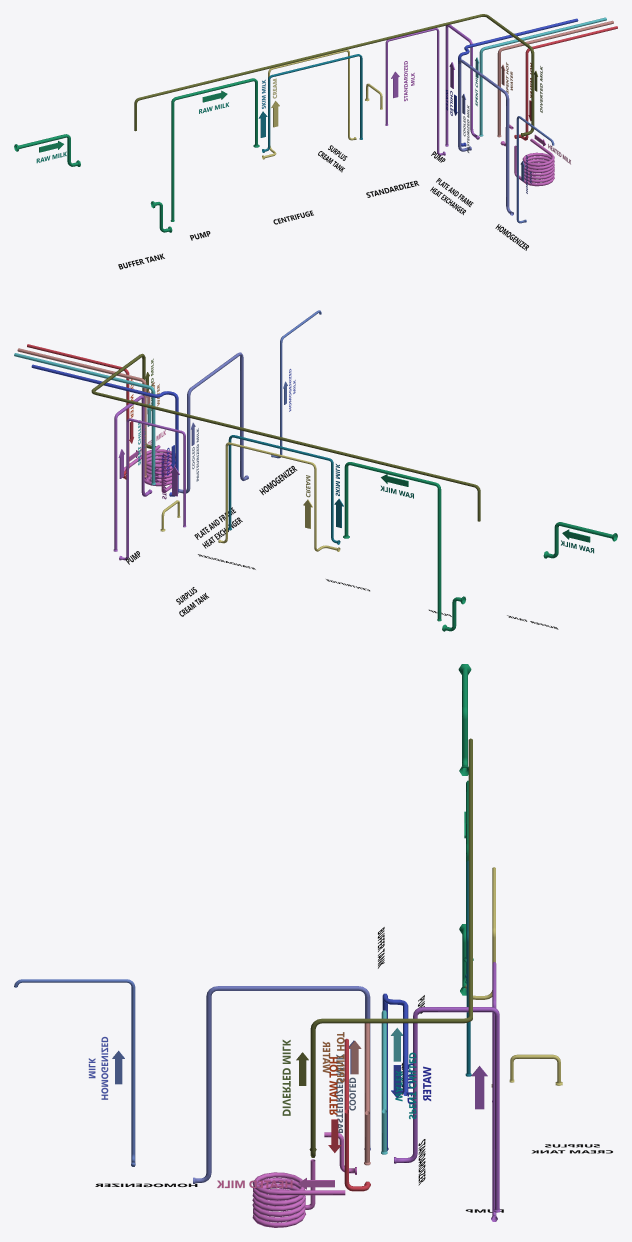
File: milk line color pipes v007.glb
The picture shows the model from 3 angles, top to bottom: view 1: azimuth 30°, elevation 25°; view 2: azimuth 150°, elevation 25°; view 3: azimuth 270°, elevation 25°; orthographic projection. The views are drawn at different scales.
Visible parts, largest first — view 1: Circle.020, Circle.003, Circle.015, Circle.005, Circle.011, Circle.014, Circle.009, Circle.006, Circle.012, Circle.013, Circle.016, Circle.018 (+3 smaller); view 2: Circle.020, Circle.005, Circle.015, Circle.011, Circle.014, Circle.006, Circle.007, Circle.003, Circle.009, Circle.016, Circle.012, Circle.013 (+2 smaller); view 3: Circle.020, Circle.003, Circle.015, Circle.011, Circle.018, Circle.013, Circle.009, Circle.016, Circle.012, Circle.014.
Part boxes in pixels (x1,y1,x2,y2): Circle.020: [134, 14, 534, 136]; Circle.003: [514, 138, 554, 186]; Circle.015: [458, 59, 513, 215]; Circle.005: [170, 78, 259, 221]; Circle.011: [445, 24, 479, 146]; Circle.014: [479, 17, 606, 136]; Circle.009: [385, 28, 445, 155]; Circle.006: [262, 54, 362, 152]; Circle.012: [497, 20, 613, 137]; Circle.013: [514, 26, 617, 140]; Circle.016: [458, 18, 578, 146]; Circle.018: [516, 116, 554, 223]; Circle.020: [91, 353, 480, 521]; Circle.005: [343, 462, 441, 621]; Circle.015: [178, 352, 248, 493]; Circle.011: [113, 395, 152, 551]; Circle.014: [14, 353, 155, 485]; Circle.006: [228, 435, 340, 544]; Circle.007: [218, 442, 340, 551]; Circle.003: [124, 449, 175, 493]; Circle.009: [119, 418, 186, 560]; Circle.016: [31, 364, 178, 496]; Circle.012: [17, 348, 146, 477]; Circle.013: [27, 344, 129, 479]; Circle.020: [309, 738, 472, 1157]; Circle.003: [252, 1159, 345, 1227]; Circle.015: [193, 986, 370, 1183]; Circle.011: [394, 1007, 500, 1212]; Circle.018: [14, 979, 135, 1166]; Circle.013: [344, 1038, 370, 1191]; Circle.009: [491, 962, 497, 1221]; Circle.016: [382, 993, 408, 1150]; Circle.012: [364, 1023, 370, 1165]; Circle.014: [381, 1010, 387, 1154].
Bounding box in the file's own units: 14.3 × 3.62 × 7.95.
31 materials, 19 textured.
